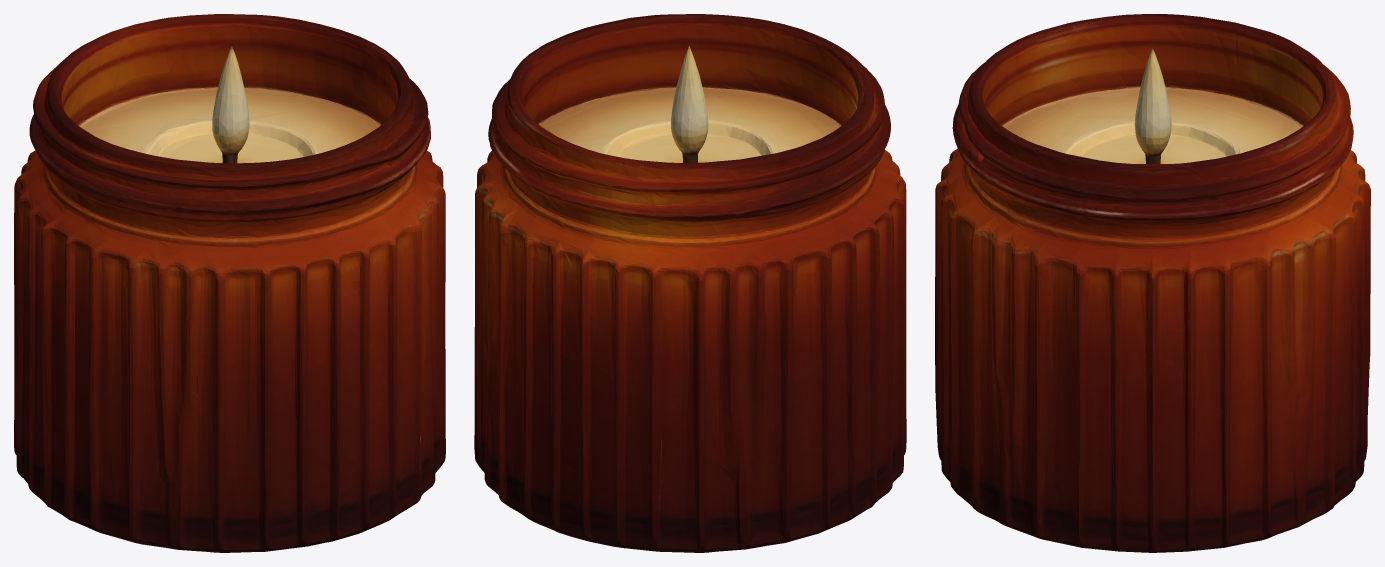
3 renders of one model, left to right at view 1: azimuth 30°, elevation 25°; view 2: azimuth 150°, elevation 25°; view 3: azimuth 270°, elevation 25°, orthographic.
Visible parts, largest first — view 1: world; view 2: world; view 3: world.
Boxes of the visible parts, box(x1,y1,x2,y2) form: world: box(14, 14, 445, 552); world: box(474, 14, 906, 552); world: box(935, 14, 1370, 552).
Size of the model in its own units: 0.939 by 0.9982 by 0.9386.
Materials: 1 (1 with a texture image).
